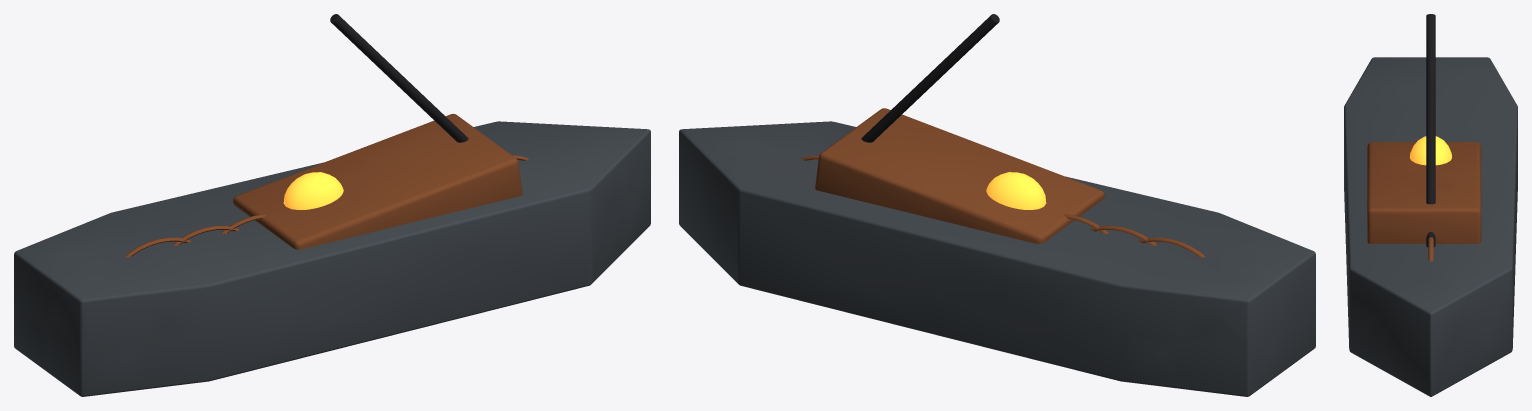
The model's file is burning_wreck.glb.
3 views of the same model, side by side, from view 1: azimuth 30°, elevation 25°; view 2: azimuth 150°, elevation 25°; view 3: azimuth 270°, elevation 25° (orthographic). The views are drawn at different scales.
Parts seen in each view (by area): view 1: ASSET_burning_wreck; view 2: ASSET_burning_wreck; view 3: ASSET_burning_wreck.
Boxes of the visible parts, x1=… form: ASSET_burning_wreck: x1=14, y1=14, x2=650, y2=396; ASSET_burning_wreck: x1=679, y1=14, x2=1315, y2=396; ASSET_burning_wreck: x1=1344, y1=14, x2=1517, y2=396.
Size of the model in its own units: 18.15 by 8.28 by 5.2.
